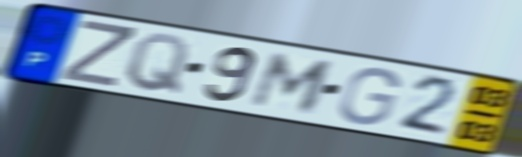2: (392, 73, 462, 141)
9: (204, 45, 257, 103)
G: (336, 65, 403, 126)
M: (246, 50, 339, 115)
Q: (123, 32, 192, 98)
Z: (57, 17, 138, 90)
